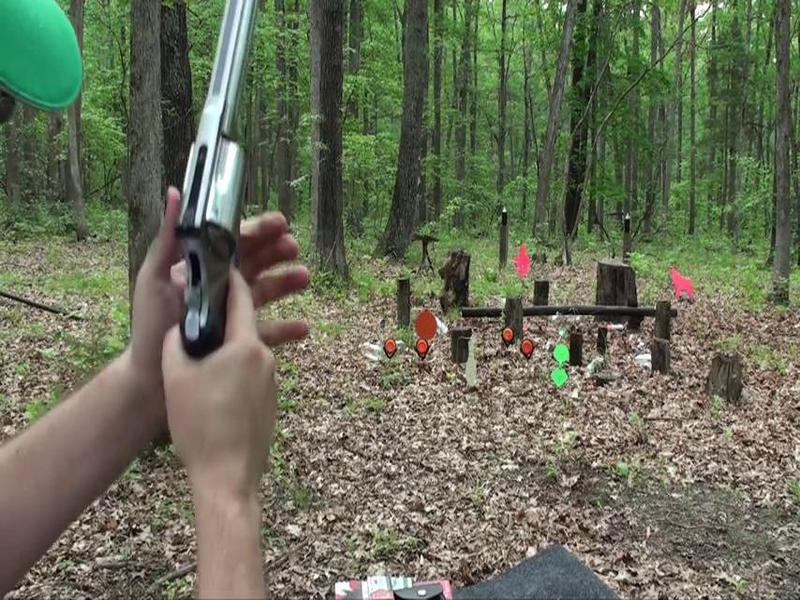Revolver: (73, 1, 281, 367)
